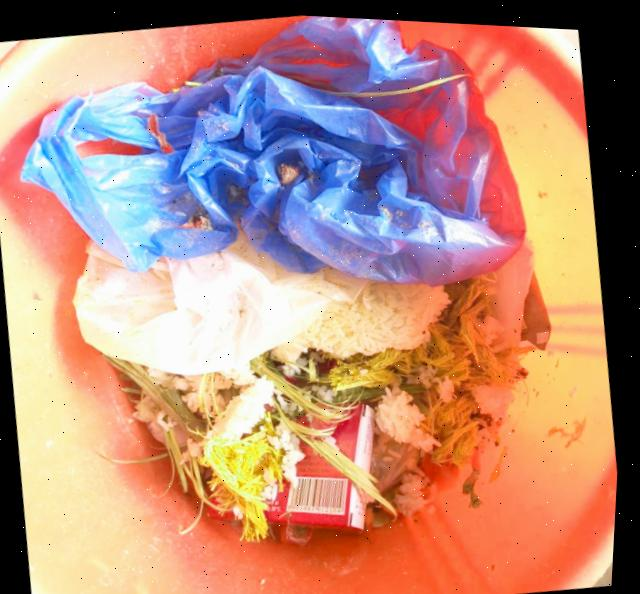Garbage: (23, 13, 554, 538)
Plastic_Bag: (24, 13, 526, 280), (76, 243, 367, 372)
